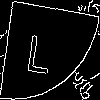L: (25, 25, 56, 75)
